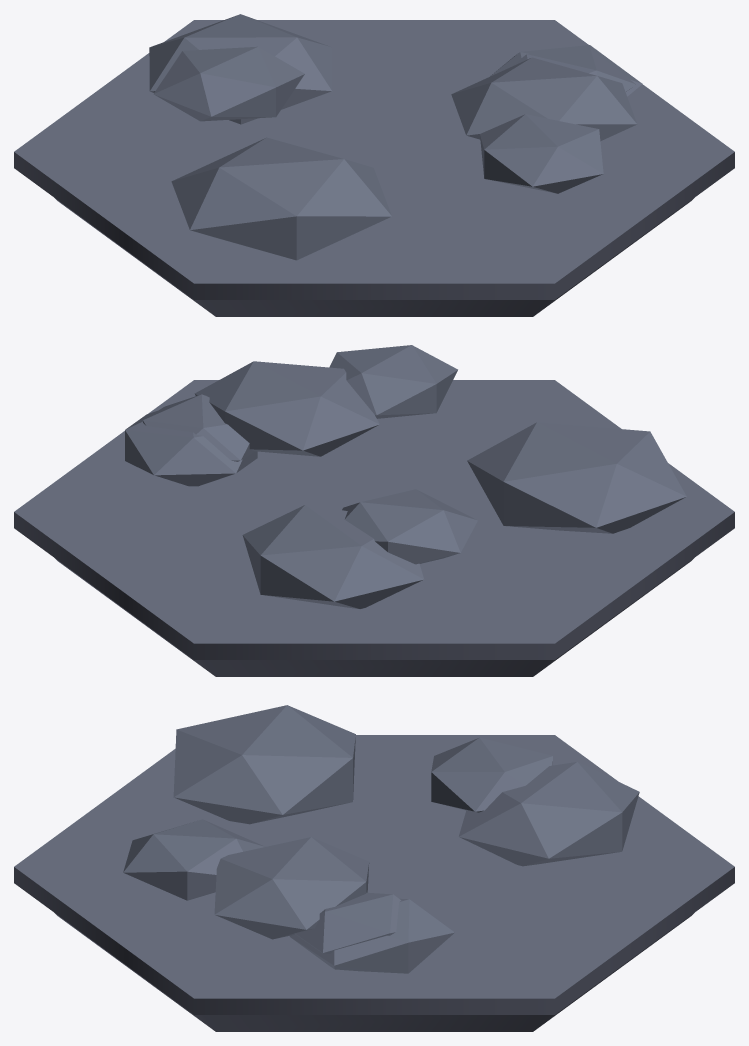
The model's file is tile_fog.glb.
The picture shows the model from 3 angles, top to bottom: view 1: azimuth 30°, elevation 25°; view 2: azimuth 150°, elevation 25°; view 3: azimuth 270°, elevation 25°; orthographic projection.
Visible parts, largest first — view 1: turf, fog_puff (×7), tile_base; view 2: turf, fog_puff (×7), tile_base; view 3: turf, fog_puff (×7), tile_base.
Part boxes in pixels (x1,y1,x2,y2): turf: (14,20,734,299); fog_puff (×7): (149,14,642,260); tile_base: (55,198,693,316); turf: (14,380,734,659); fog_puff (×7): (125,345,686,608); tile_base: (55,558,693,676); turf: (14,735,734,1014); fog_puff (×7): (123,705,639,973); tile_base: (55,913,693,1031).
Size of the model in its own units: 1.73 by 0.3686 by 2.
